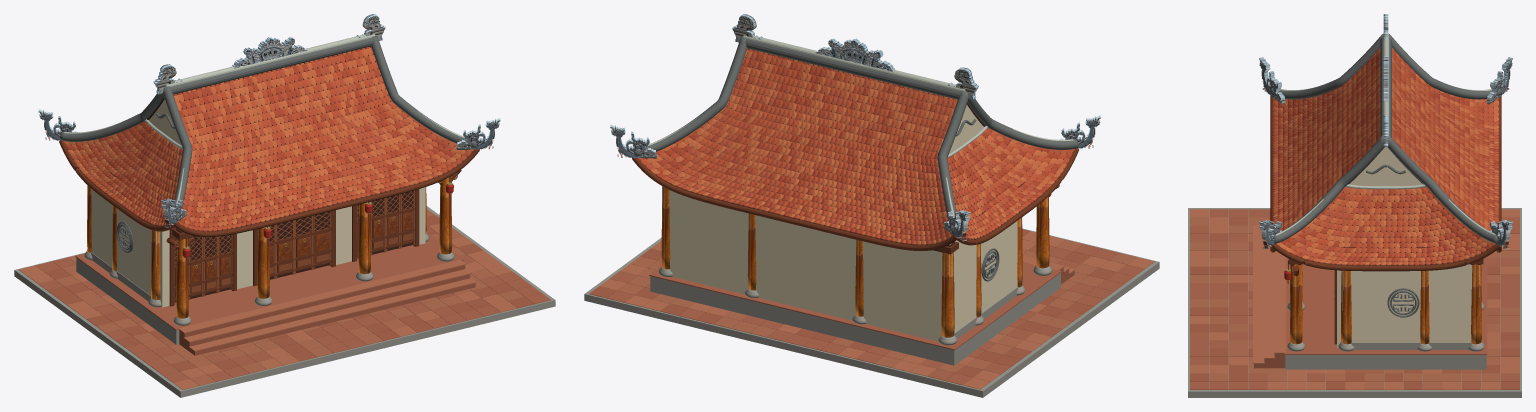
File: temple.glb
3 renders of one model, left to right at view 1: azimuth 30°, elevation 25°; view 2: azimuth 150°, elevation 25°; view 3: azimuth 270°, elevation 25°, orthographic. The views are drawn at different scales.
Parts seen in each view (by area): view 1: Mặt hiên, Ngói vảy front.002, Ngói vảy front, Ngói vảy front.005, Gạch sân.001, Ngói vảy front.003, Ngói vảy front.004, Ngói vảy front.001, Mũi bậc, Gạch sân.003, Sân lát, Gạch sân.002 (+34 smaller); view 2: Tường hậu, Ngói vảy back.005, Ngói vảy back.002, Ngói vảy back.003, Ngói vảy back.001, Ngói vảy back, Ngói vảy back.004, Bệ đá, Sân lát, Gạch sân.001, Gạch sân.003, Tường hồi (+24 smaller); view 3: Tường hồi, Gạch sân.001, Gạch sân.003, Gạch sân, Bờ chảy, Gạch sân.002, Mặt hiên, Sân lát, Mũi bậc, Bệ đá, Ngói vảy back.005, Ngói vảy back.002 (+35 smaller).
Part boxes in pixels (box(x1,y1,x2,y2)): Mặt hiên: box(75, 232, 463, 330); Ngói vảy front.002: box(177, 46, 471, 231); Ngói vảy front: box(177, 48, 465, 226); Ngói vảy front.005: box(179, 46, 467, 231); Gạch sân.001: box(35, 254, 550, 382); Ngói vảy front.003: box(174, 51, 474, 224); Ngói vảy front.004: box(182, 48, 466, 231); Ngói vảy front.001: box(173, 47, 455, 227); Mũi bậc: box(178, 259, 476, 351); Gạch sân.003: box(55, 209, 524, 385); Sân lát: box(14, 206, 555, 397); Gạch sân.002: box(45, 215, 533, 371); Tường hậu: box(662, 186, 953, 341); Ngói vảy back.005: box(659, 53, 957, 244); Ngói vảy back.002: box(638, 48, 953, 241); Ngói vảy back.003: box(647, 50, 954, 245); Ngói vảy back.001: box(640, 49, 952, 244); Ngói vảy back: box(651, 49, 957, 245); Ngói vảy back.004: box(656, 52, 945, 240); Bệ đá: box(650, 273, 1060, 365); Sân lát: box(584, 228, 1159, 397); Gạch sân.001: box(607, 244, 1144, 384); Gạch sân.003: box(617, 240, 1136, 372); Tường hồi: box(669, 190, 1022, 332); Tường hồi: box(1342, 264, 1471, 342); Gạch sân.001: box(1190, 209, 1519, 389); Gạch sân.003: box(1190, 217, 1519, 389); Gạch sân: box(1190, 209, 1519, 389); Bờ chảy: box(1270, 34, 1501, 243); Gạch sân.002: box(1190, 217, 1519, 389); Mặt hiên: box(1284, 257, 1487, 354); Sân lát: box(1188, 208, 1521, 397); Mũi bậc: box(1253, 219, 1285, 363); Bệ đá: box(1285, 355, 1486, 369); Ngói vảy back.005: box(1392, 48, 1498, 230); Ngói vảy back.002: box(1392, 53, 1498, 223).
Bounding box in the file's own units: 11.2 × 6.91 × 8.6.
24 materials, 5 textured.
